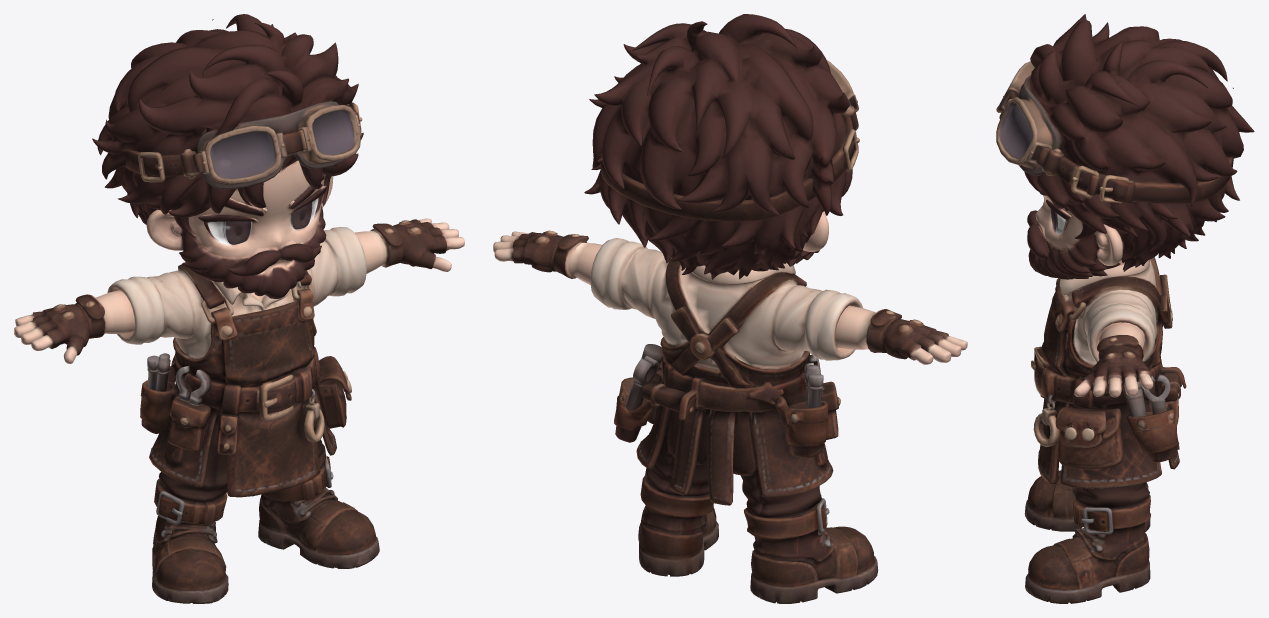
Rendered from blacksmith.glb.
3 renders of one model, left to right at view 1: azimuth 30°, elevation 25°; view 2: azimuth 150°, elevation 25°; view 3: azimuth 270°, elevation 25°, orthographic. The views are drawn at different scales.
Visible parts, largest first — view 1: tripo_node_ef783f52-ae88-4afa-9406-d5e869481a65; view 2: tripo_node_ef783f52-ae88-4afa-9406-d5e869481a65; view 3: tripo_node_ef783f52-ae88-4afa-9406-d5e869481a65.
Boxes of the visible parts, x1,y1,x2,y2 form: tripo_node_ef783f52-ae88-4afa-9406-d5e869481a65: (14,14,464,603); tripo_node_ef783f52-ae88-4afa-9406-d5e869481a65: (493,14,967,603); tripo_node_ef783f52-ae88-4afa-9406-d5e869481a65: (996,14,1254,603).
Bounding box in the file's own units: 0.8706 × 0.9995 × 0.4487.
Materials: 1 (1 with a texture image).
